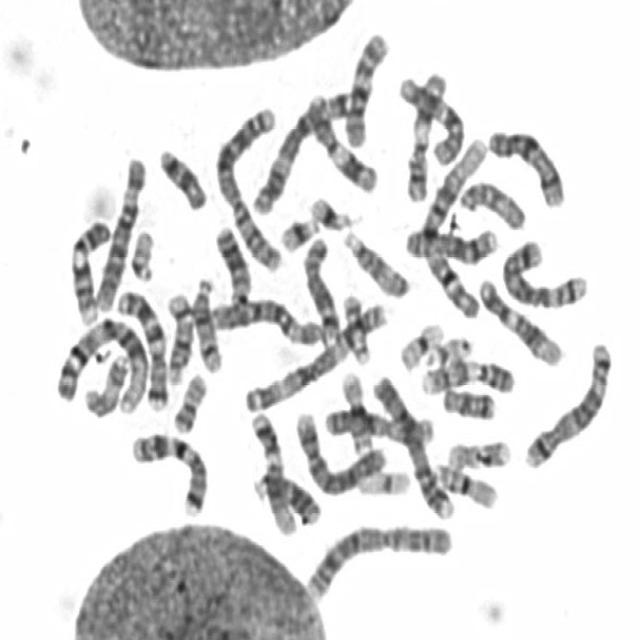A1: (416, 128, 490, 318), (51, 310, 150, 416)
A2: (298, 514, 456, 602), (211, 100, 286, 272)
A3: (237, 292, 387, 413), (248, 82, 353, 214)
B4: (368, 364, 458, 522), (290, 404, 389, 496)
B5: (518, 333, 614, 469), (496, 231, 590, 310)
C10: (392, 66, 466, 167), (339, 22, 391, 149)
C11: (300, 84, 380, 195), (401, 64, 449, 204)
C12: (474, 268, 565, 368), (244, 403, 298, 537)
C6: (90, 146, 150, 314), (203, 289, 326, 348)
C7: (124, 422, 210, 518), (111, 282, 172, 414)
C8: (296, 227, 342, 344), (398, 218, 501, 266)
C9: (64, 210, 114, 324), (415, 351, 518, 398)
D13: (246, 462, 322, 526), (209, 216, 254, 308)
D14: (187, 268, 226, 374), (160, 285, 196, 385)
D15: (338, 222, 412, 298), (454, 172, 528, 231)
E16: (429, 452, 500, 510), (336, 365, 376, 454)
E17: (78, 344, 131, 418), (442, 431, 512, 471)
E18: (153, 139, 209, 212), (437, 379, 498, 421)
F19: (394, 314, 446, 372), (351, 460, 413, 498)
F20: (168, 365, 210, 435), (338, 286, 373, 366)
G21: (274, 208, 321, 253), (305, 189, 354, 231)
G22: (420, 329, 474, 369), (125, 222, 157, 284)
X: (482, 120, 568, 209)
